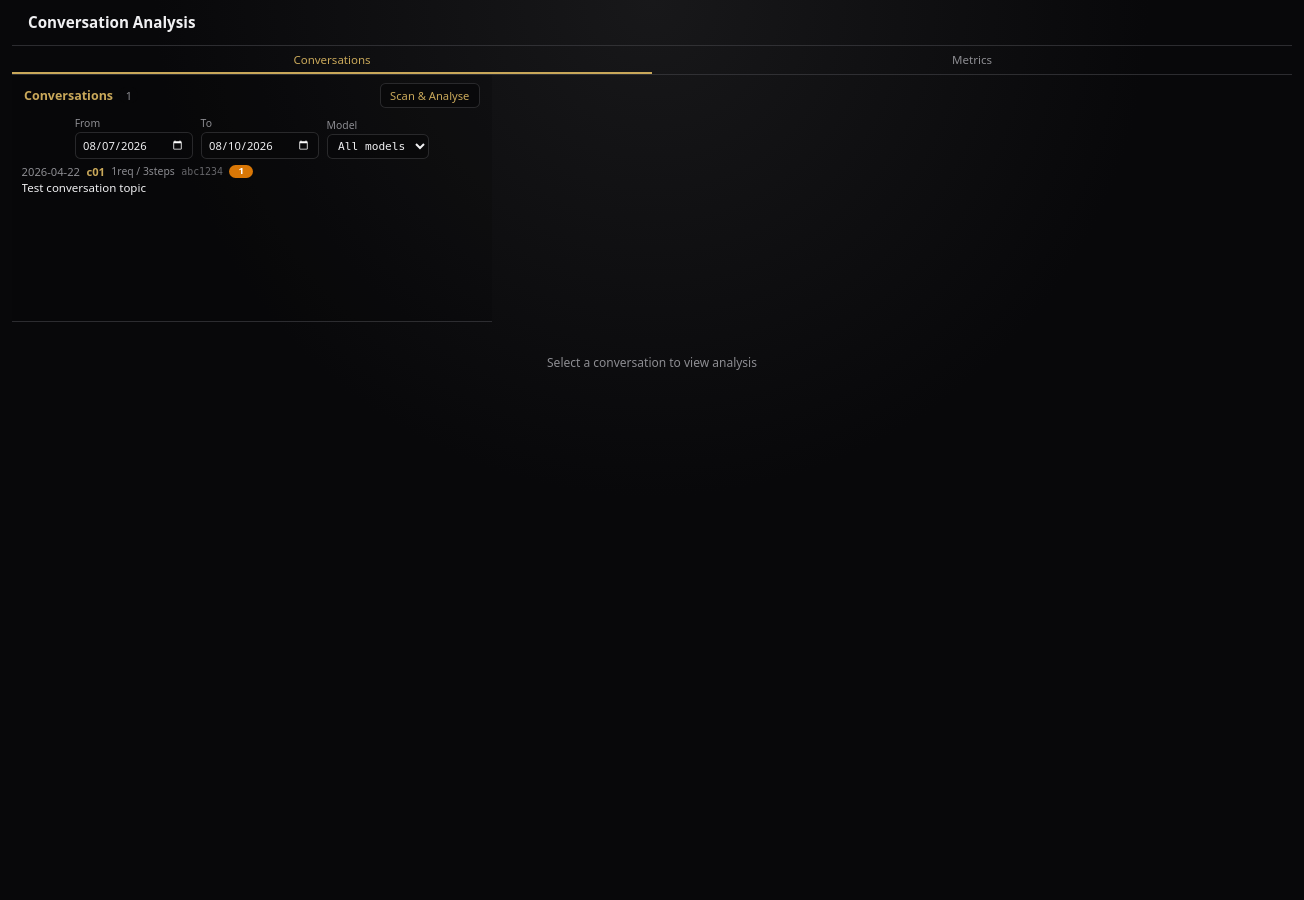
Scenario: 3i: dispute form accessibility › dispute form inputs have associated labels
This screenshot has width=1304, height=900.
Click the text "Test conversation topic" at (84, 188), box [22,180,146,195]
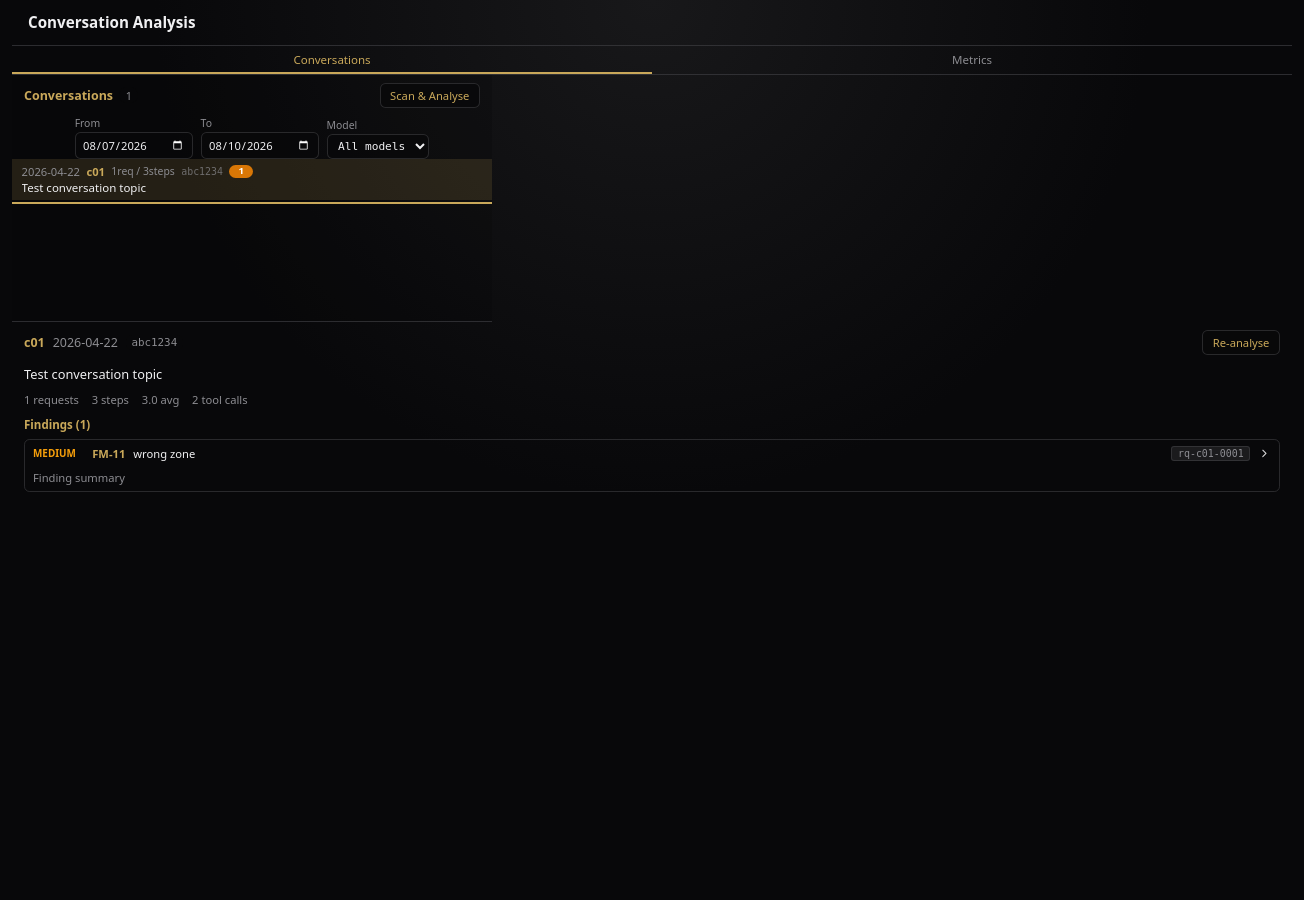
Click the text "wrong zone" at (164, 453), box [133,446,195,461]
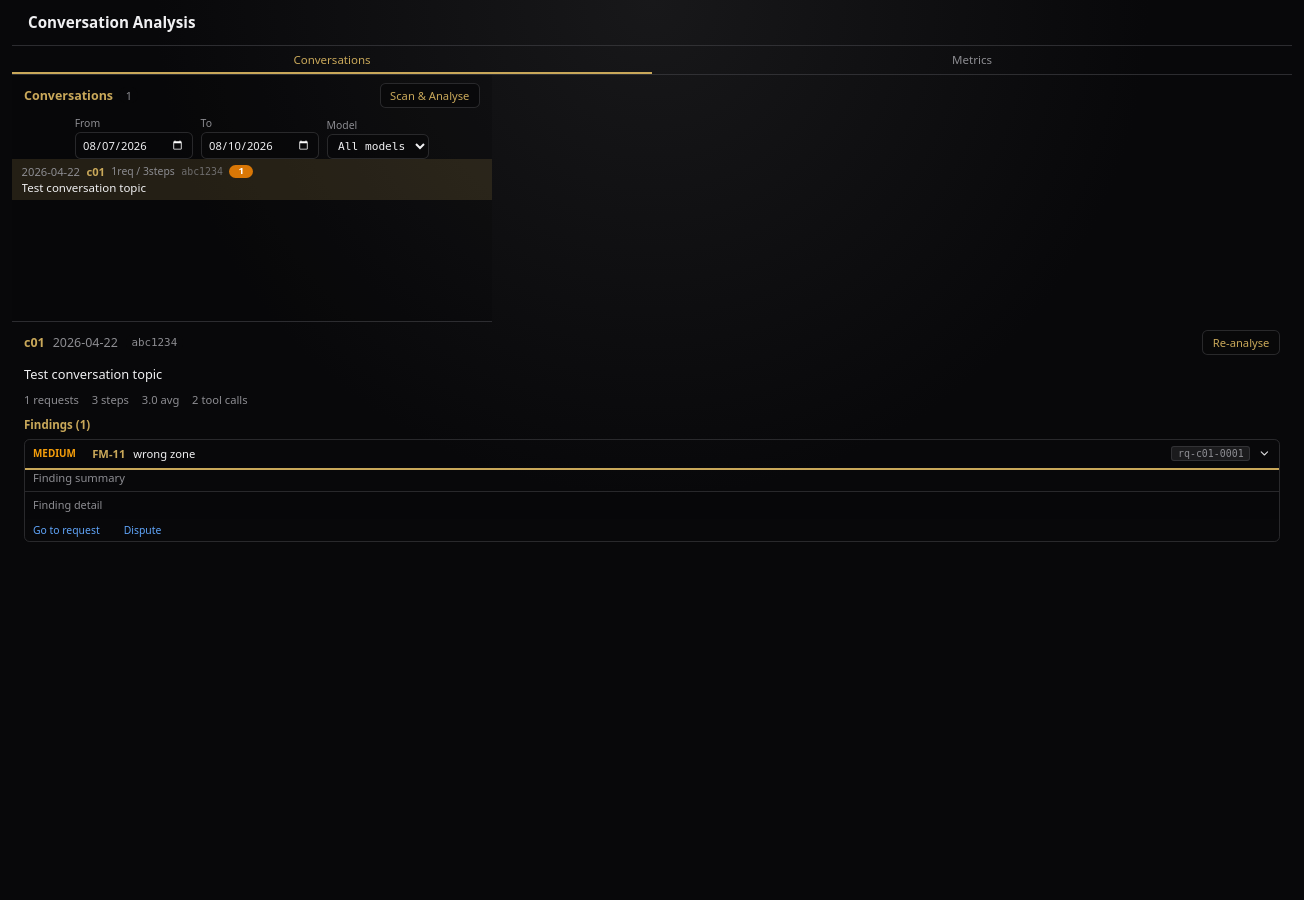
Click the button "Dispute" at (142, 530), box [116,519,169,541]
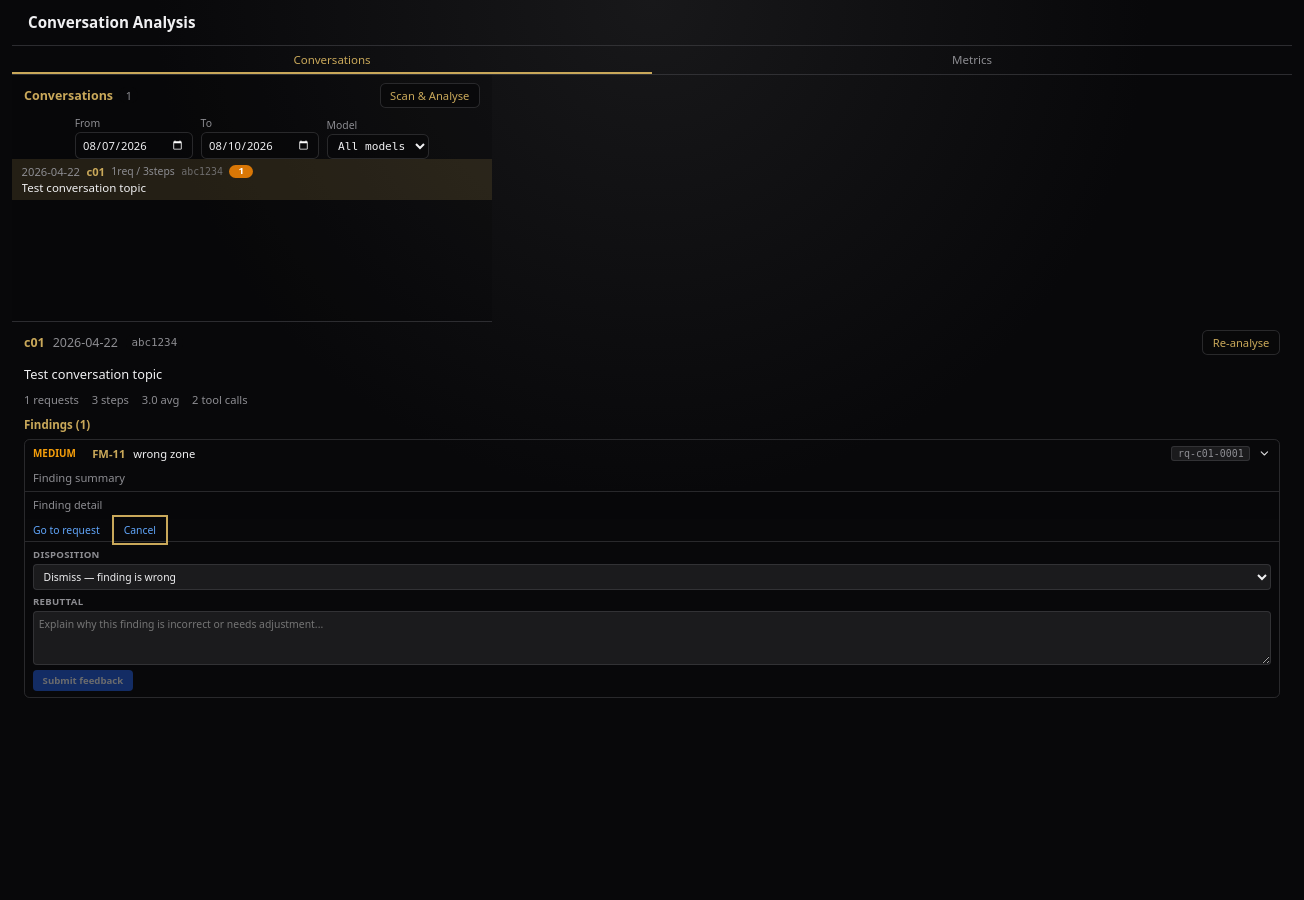
Now the dropdown labelled "Disposition" is shown, box [33,564,1271,590]
Now the text box labelled "Rebuttal" is shown, box [33,611,1271,665]
